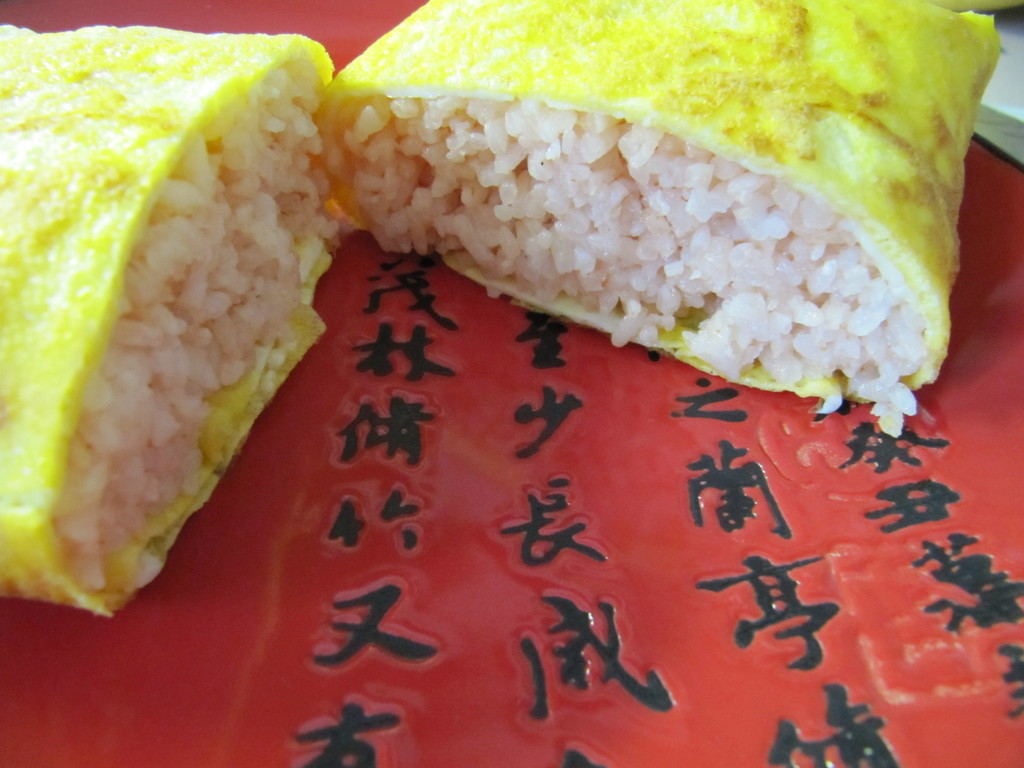sushi: (317, 0, 996, 435), (4, 19, 377, 653)
